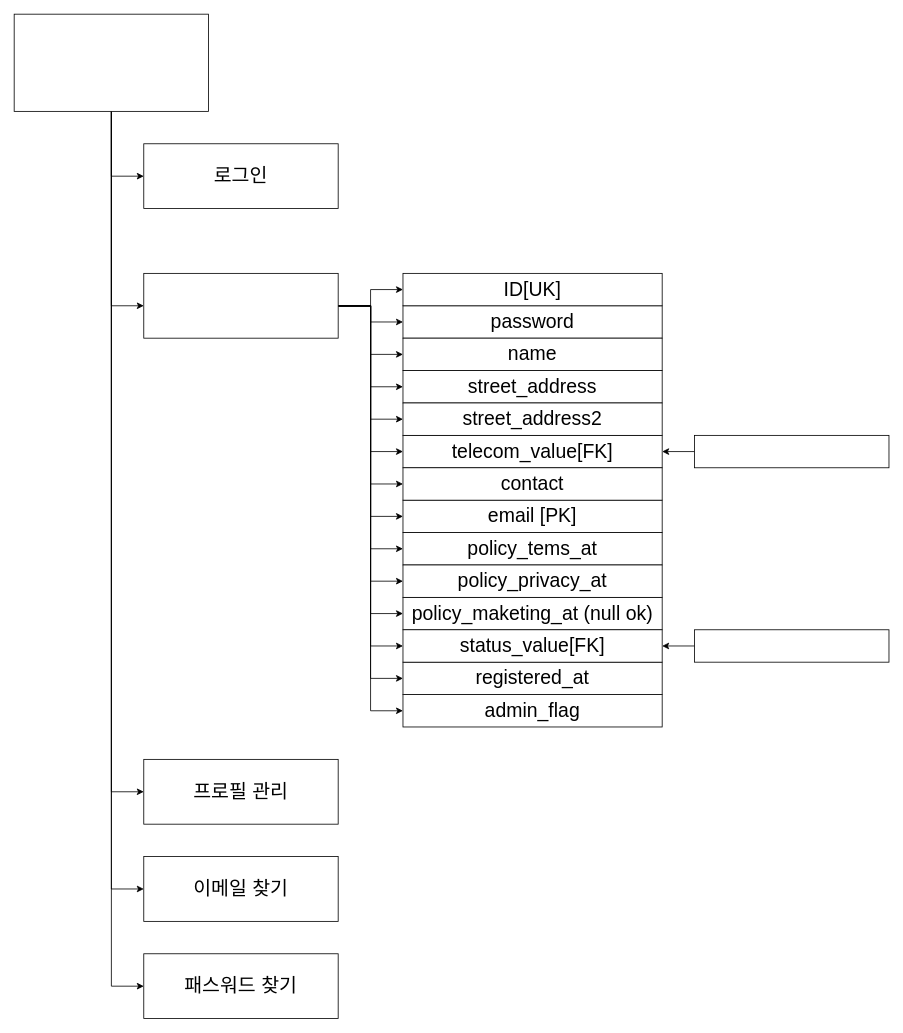
The diagram is 903 pixels wide and 1033 high, and some of its shapes have lost their labels. The centre of each missing label's shape, as x and y in pixels:
"stauses" goes at point (791, 645).
"telecoms" goes at point (791, 451).
"user" goes at point (111, 62).
"회원가입" goes at point (240, 305).
